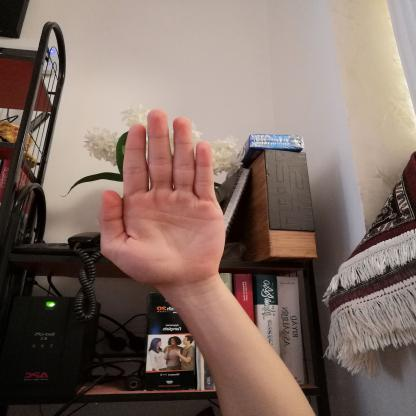SEEN: (86, 100, 238, 294)
